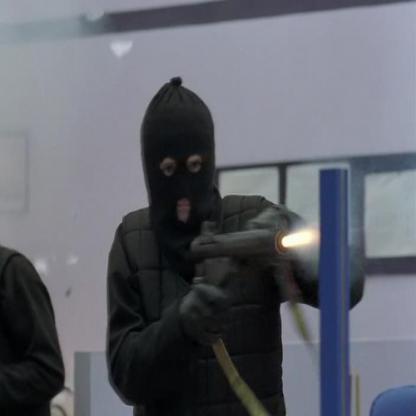Guns: (186, 217, 288, 318)
